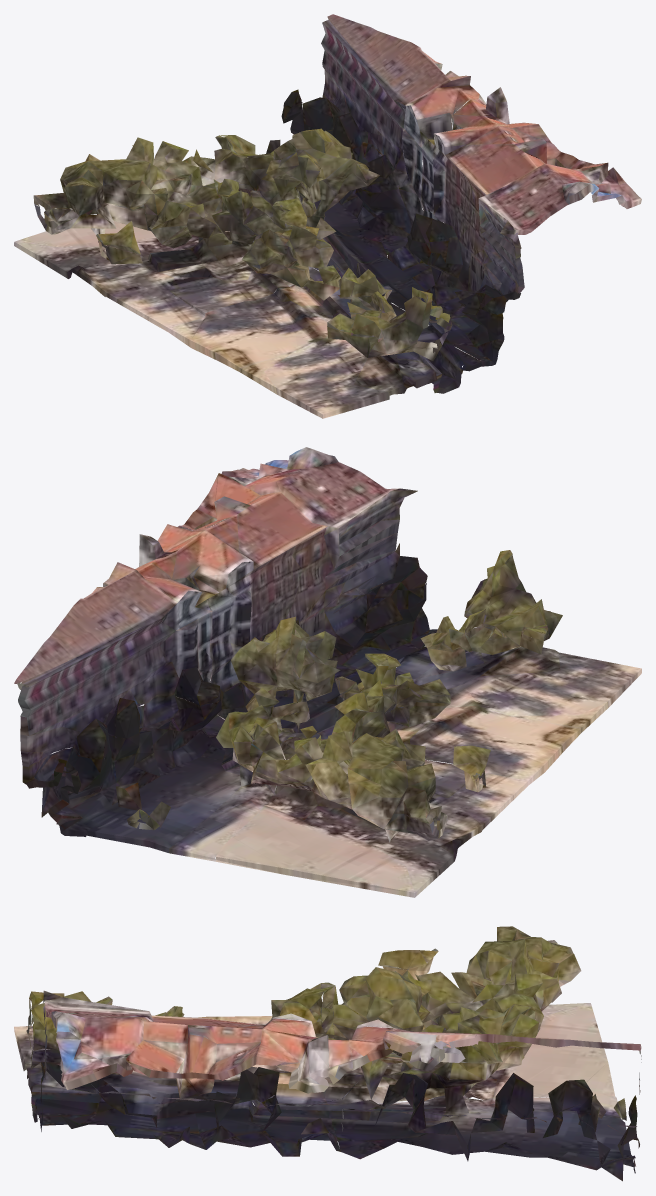
3 views of the same model, one above another, from view 1: azimuth 30°, elevation 25°; view 2: azimuth 150°, elevation 25°; view 3: azimuth 270°, elevation 25° (orthographic). The views are drawn at different scales.
Visible parts, largest first — view 1: Mesh_0; view 2: Mesh_0; view 3: Mesh_0.
Part boxes in pixels (box(x1,y1,x2,y2)): Mesh_0: box(14, 14, 641, 418); Mesh_0: box(14, 447, 641, 897); Mesh_0: box(14, 926, 641, 1181).
Bounding box in the file's own units: 66.58 × 27.54 × 82.58.
Materials: 1 (1 with a texture image).
